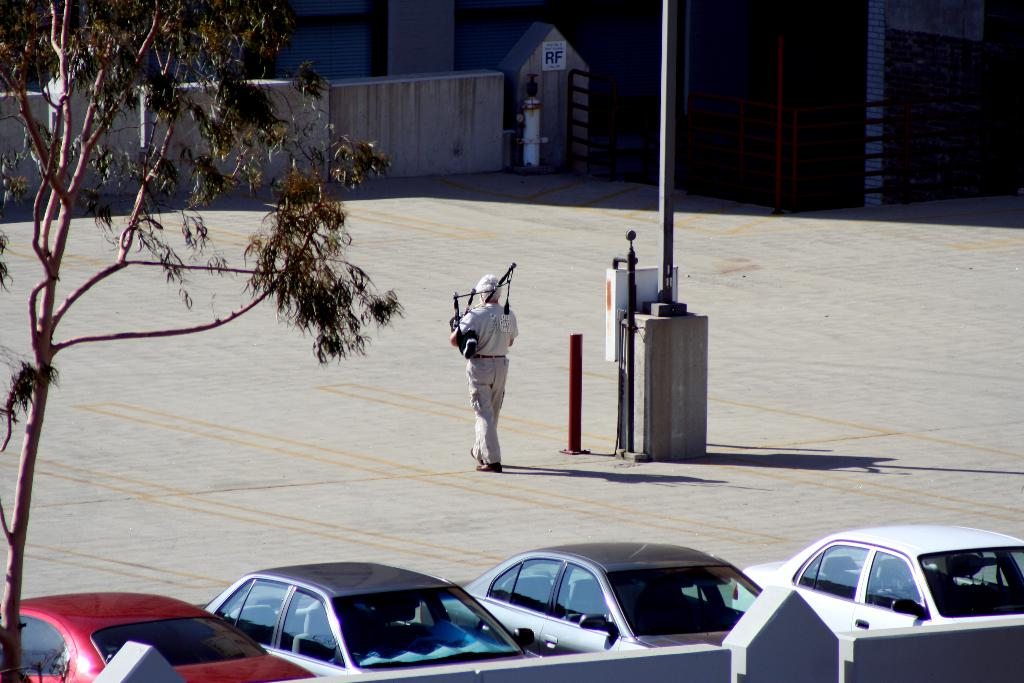Car: (0, 528, 1023, 682)
